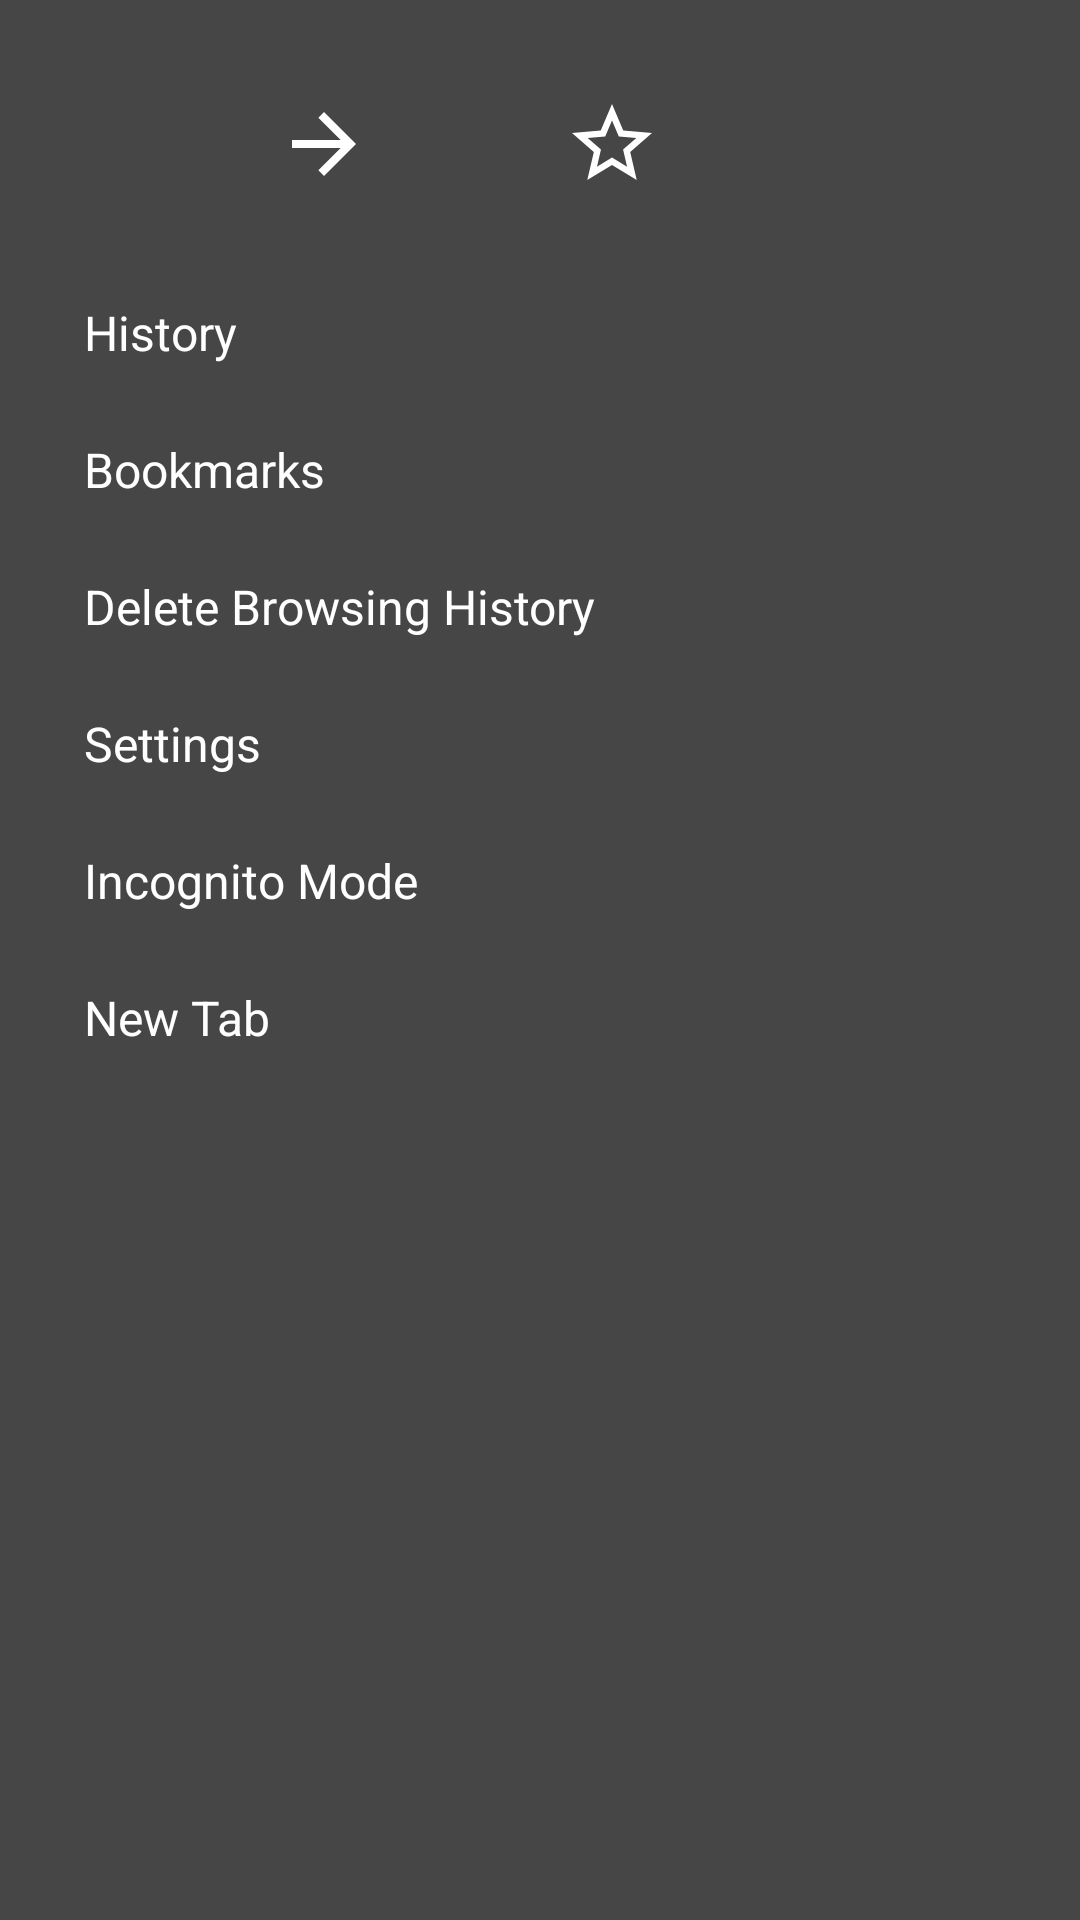

Point at icon controls on the screen. Image size 1080 x 1920, points as (x=x, y=y).
forward: (x=324, y=144)
star: (x=612, y=142)
